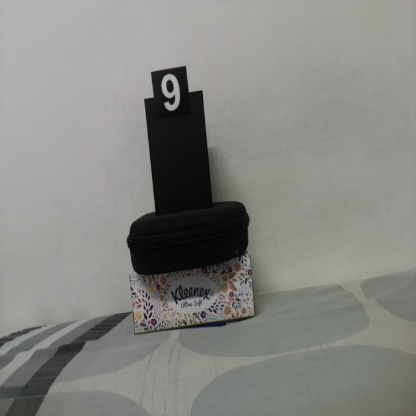id_9: (151, 71, 191, 125)
